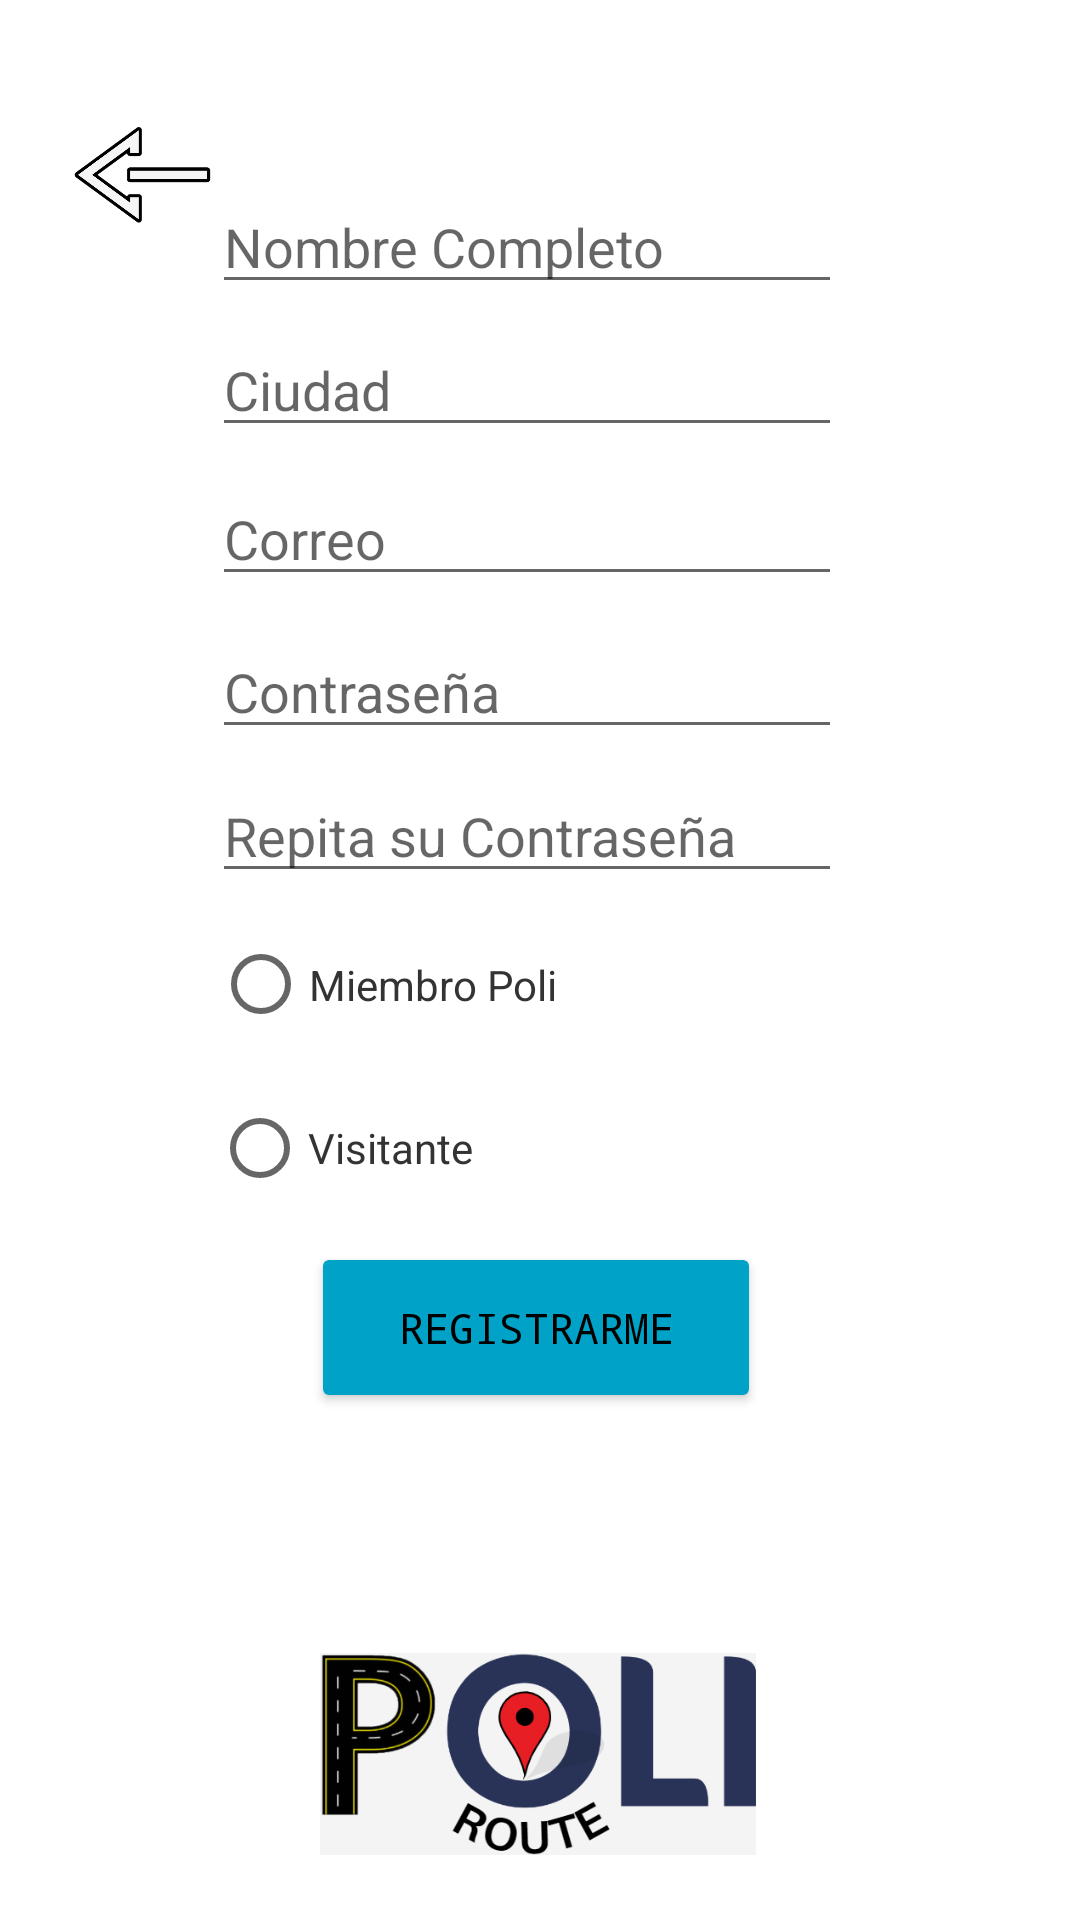

Where icons sit on this 1080px x 1920px app screen, as box=[x1, y1, x2, y2]:
retroceso: box=[74, 127, 211, 223]
